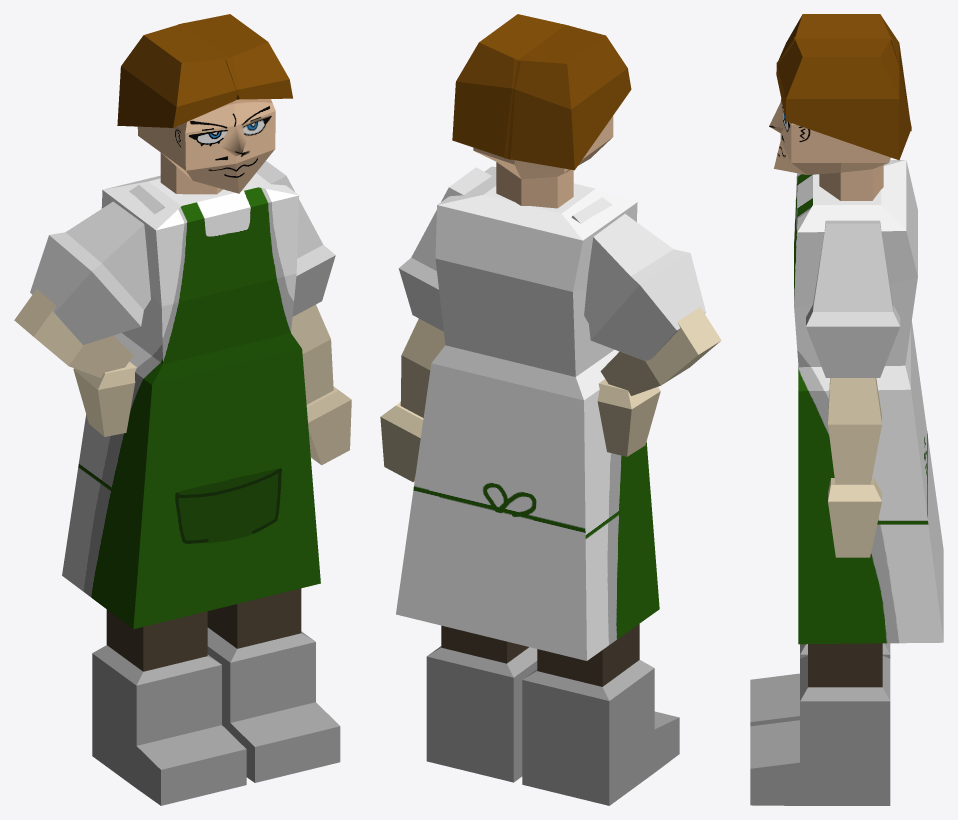
File: bartender.fbx
3 renders of one model, left to right at view 1: azimuth 30°, elevation 25°; view 2: azimuth 150°, elevation 25°; view 3: azimuth 270°, elevation 25°, orthographic.
Parts seen in each view (by area): view 1: torso, legright, legleft, armright, hair2, head, hair1, forearmright, armleft, handright5, handleft, forearmleft; view 2: torso, legright, legleft, hair2, armright, hair1, forearmright, head, armleft, handright5, forearmleft, handleft; view 3: torso, legleft, hair1, armleft, head, forearmleft, handleft, hair2, legright.
Part boxes in pixels (x1,y1,x2,y2): torso: [62, 173, 320, 629]; legright: [92, 609, 246, 805]; legleft: [207, 588, 340, 782]; armright: [30, 185, 164, 344]; hair2: [117, 23, 239, 127]; head: [137, 99, 275, 194]; hair1: [178, 14, 292, 99]; forearmright: [14, 289, 133, 377]; armleft: [256, 161, 335, 316]; handright5: [73, 361, 136, 436]; handleft: [306, 386, 351, 465]; forearmleft: [291, 304, 333, 404]; torso: [396, 166, 659, 660]; legright: [522, 624, 679, 805]; legleft: [426, 625, 537, 782]; hair2: [504, 25, 631, 170]; armright: [571, 197, 705, 361]; hair1: [452, 14, 568, 159]; forearmright: [600, 307, 721, 395]; head: [473, 116, 613, 208]; armleft: [398, 167, 491, 331]; handright5: [597, 379, 660, 456]; forearmleft: [400, 318, 445, 417]; handleft: [380, 402, 423, 481]; torso: [794, 160, 943, 644]; legleft: [750, 643, 890, 805]; hair1: [776, 37, 911, 160]; armleft: [806, 220, 900, 377]; head: [769, 99, 890, 200]; forearmleft: [828, 378, 881, 484]; handleft: [828, 478, 881, 557]; hair2: [776, 14, 911, 130]; legright: [750, 643, 890, 726].
Bounding box in the file's own units: 2.62 × 5.66 × 1.37.
7 materials, 2 textured.
